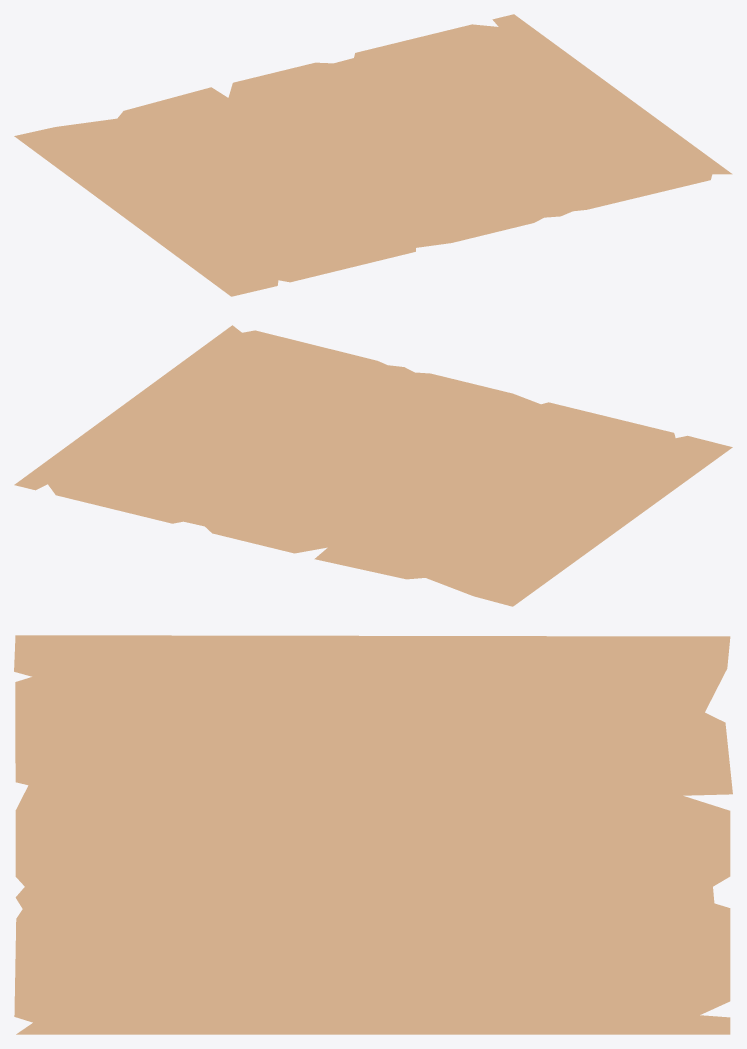
Rendered from scroll_canvas_old.fbx.
3 views of the same model, one above another, from view 1: azimuth 30°, elevation 25°; view 2: azimuth 150°, elevation 25°; view 3: azimuth 270°, elevation 25° (orthographic). The views are drawn at different scales.
Parts seen in each view (by area): view 1: Plane; view 2: Plane; view 3: Plane.
Boxes of the visible parts, <box> form: Plane: <box>14,14,732,296</box>; Plane: <box>14,325,732,606</box>; Plane: <box>14,635,732,1034</box>.
Size of the model in its own units: 200 by 0.0233 by 152.
